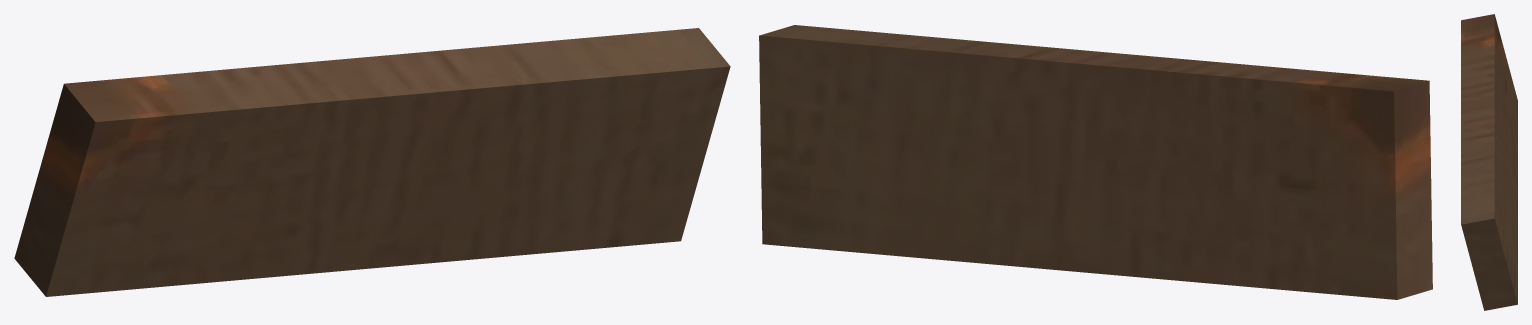
The model's file is fan_right__blade_8.glb.
3 views of the same model, side by side, from view 1: azimuth 30°, elevation 25°; view 2: azimuth 150°, elevation 25°; view 3: azimuth 270°, elevation 25° (orthographic). The views are drawn at different scales.
Parts seen in each view (by area): view 1: geometry_0; view 2: geometry_0; view 3: geometry_0.
Part boxes in pixels (<box>): geometry_0: <box>14,28,730,296</box>; geometry_0: <box>759,25,1432,299</box>; geometry_0: <box>1461,14,1517,310</box>.
Size of the model in its own units: 0.0289 by 0.0124 by 0.00428.
1 material, 1 textured.
